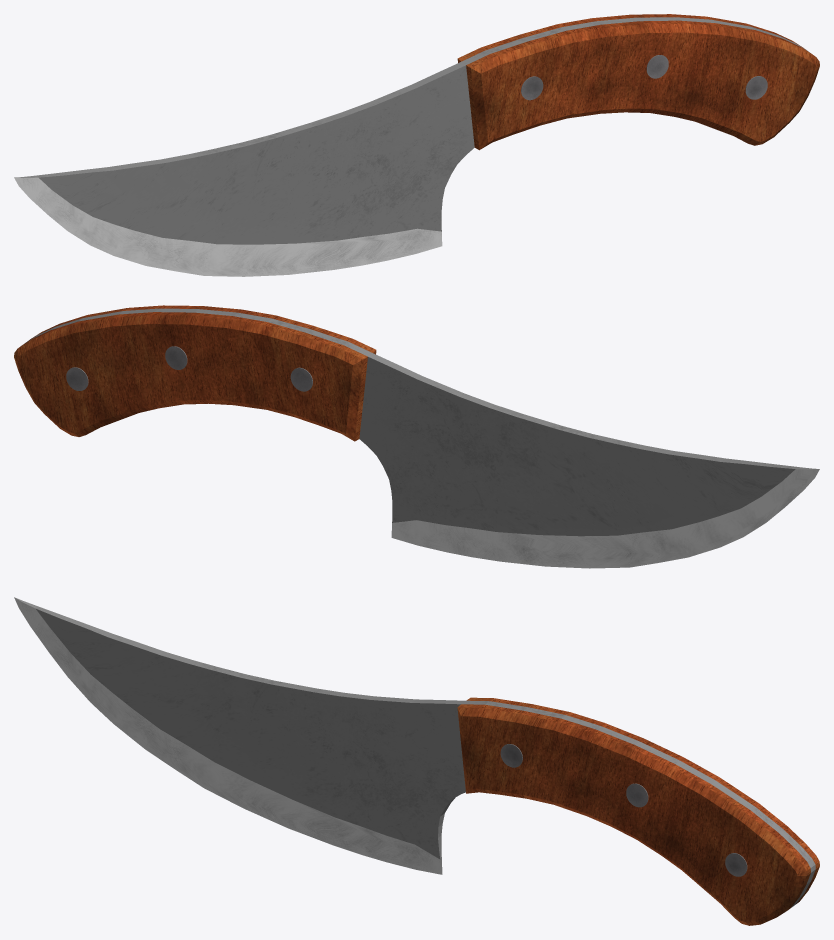
The model's file is kitchen_knife.glb.
The picture shows the model from 3 angles, top to bottom: view 1: azimuth 30°, elevation 25°; view 2: azimuth 150°, elevation 25°; view 3: azimuth 330°, elevation 25°; orthographic projection.
Size of the model in its own units: 17.84 by 4.03 by 0.8.
Materials: 4 (4 with a texture image).
